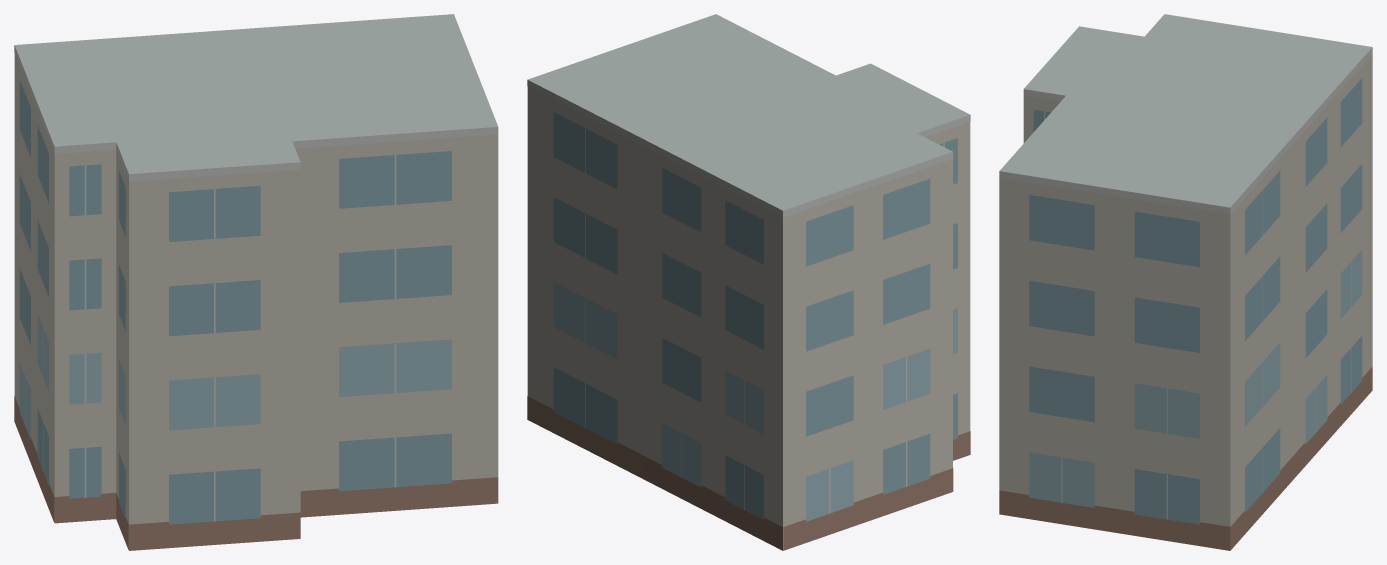
The model's file is residential-44ec49e4-a193-4563-a628-231901f569c7.glb.
The picture shows the model from 3 angles, left to right: view 1: azimuth 30°, elevation 25°; view 2: azimuth 150°, elevation 25°; view 3: azimuth 270°, elevation 25°; orthographic projection. The views are drawn at different scales.
Parts seen in each view (by area): view 1: residential-44ec49e4-a193-4563-a628-231901f569c7.tmp; view 2: residential-44ec49e4-a193-4563-a628-231901f569c7.tmp; view 3: residential-44ec49e4-a193-4563-a628-231901f569c7.tmp.
Boxes of the visible parts, left/top/right/bottom form: residential-44ec49e4-a193-4563-a628-231901f569c7.tmp: left=14, top=14, right=498, bottom=550; residential-44ec49e4-a193-4563-a628-231901f569c7.tmp: left=527, top=14, right=970, bottom=550; residential-44ec49e4-a193-4563-a628-231901f569c7.tmp: left=999, top=14, right=1372, bottom=550.
Size of the model in its own units: 14.77 by 12.2 by 12.03.
